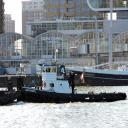tugboat: (22, 60, 128, 105)
